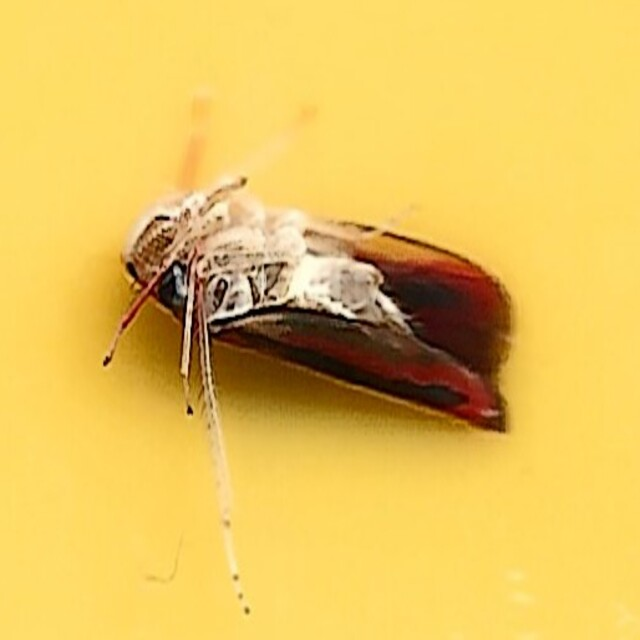Hemiptera: (125, 197, 515, 443)
